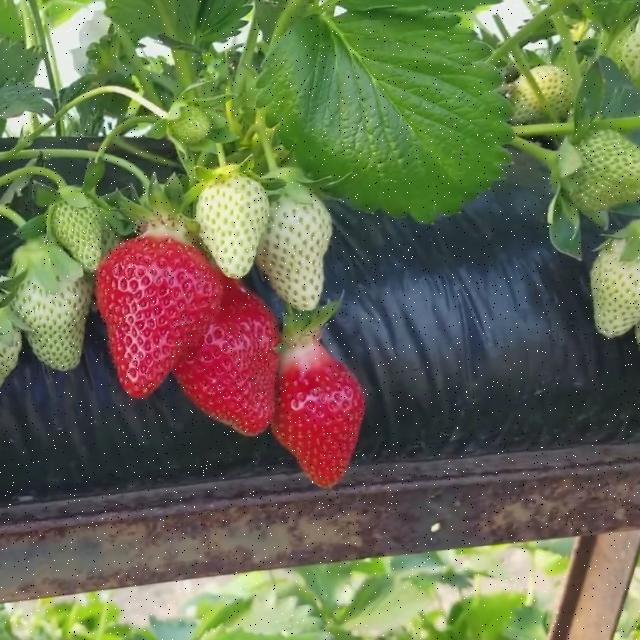Ripe Strawberry: (97, 236, 222, 398), (175, 282, 278, 436), (270, 361, 364, 487)
